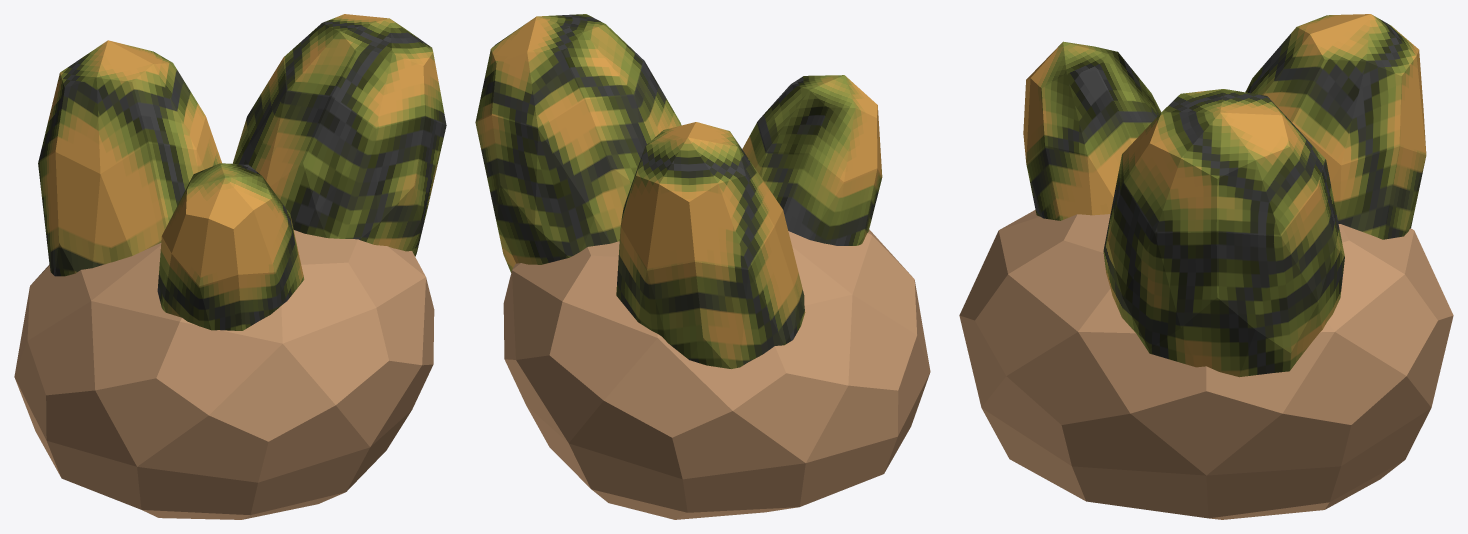
Rendered from SM_CopperOreRock.fbx.
3 renders of one model, left to right at view 1: azimuth 30°, elevation 25°; view 2: azimuth 150°, elevation 25°; view 3: azimuth 270°, elevation 25°, orthographic. The views are drawn at different scales.
Parts seen in each view (by area): view 1: CopperOreRock; view 2: CopperOreRock; view 3: CopperOreRock.
Part boxes in pixels (x1=…): CopperOreRock: x1=14, y1=14, x2=446, y2=519; CopperOreRock: x1=475, y1=14, x2=930, y2=519; CopperOreRock: x1=959, y1=14, x2=1453, y2=519.
Bounding box in the file's own units: 88.92 × 87.04 × 84.76.
